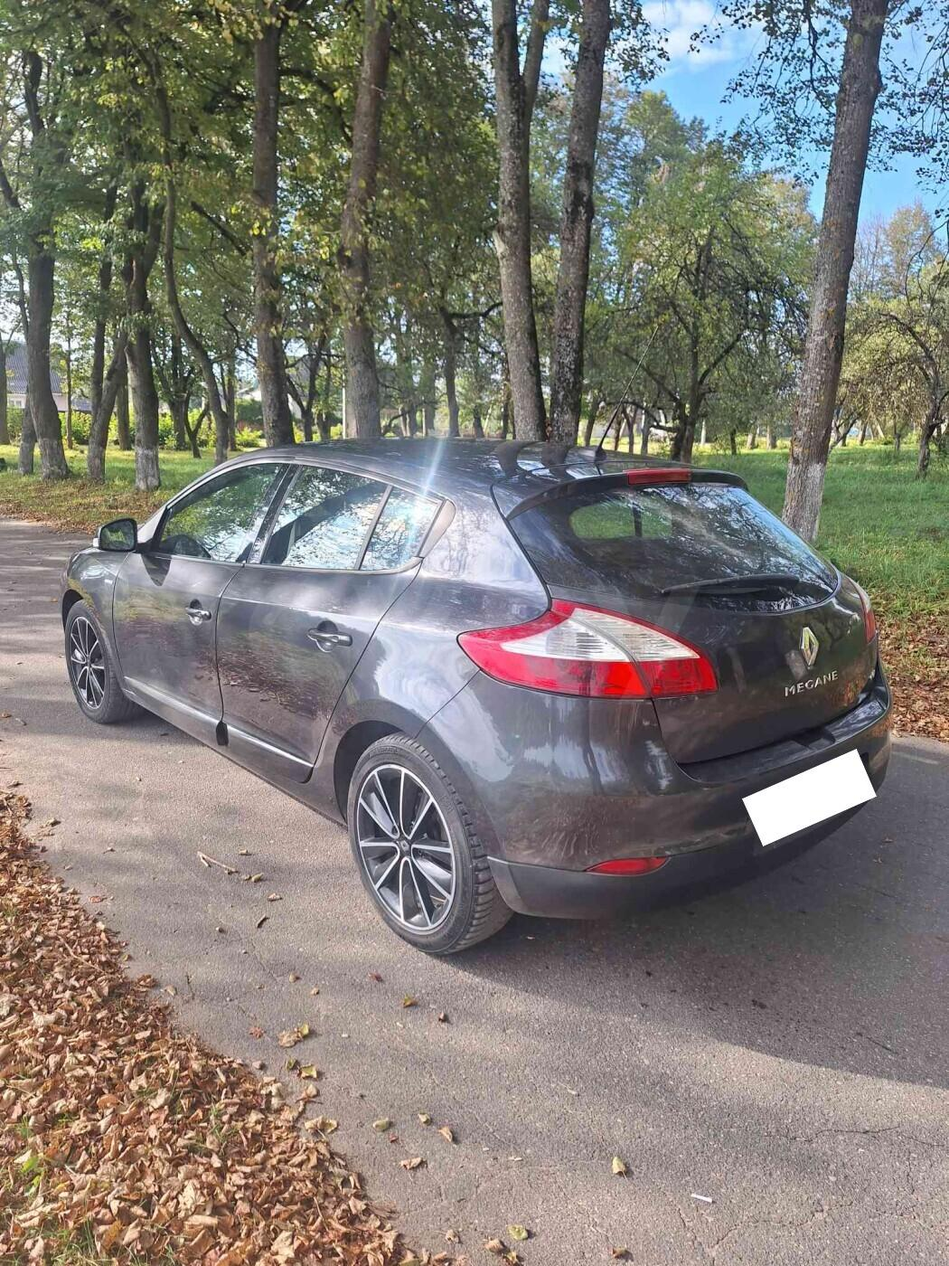Megane_2012-2014: (61, 441, 893, 935)
